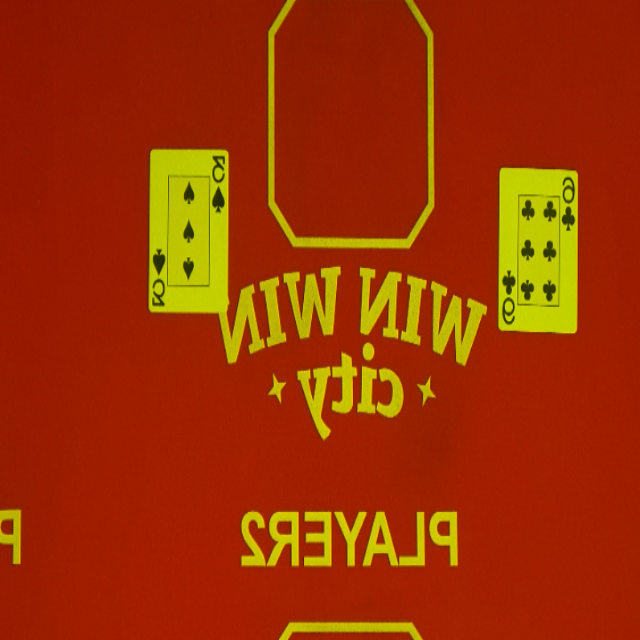3S: (207, 152, 228, 217), (147, 246, 166, 312)
6C: (560, 170, 578, 234), (500, 264, 518, 327)
